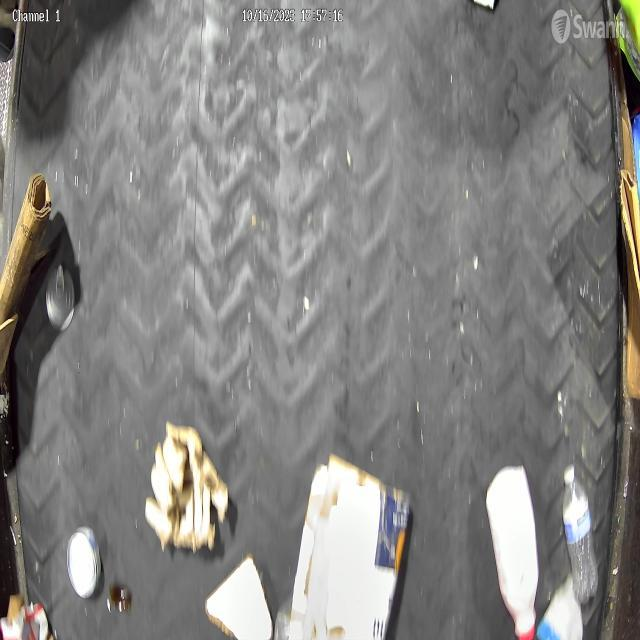can: (66, 525, 103, 599), (46, 265, 74, 331)
milk_jug: (486, 464, 538, 640)
plastic_bottle: (562, 464, 599, 604)
